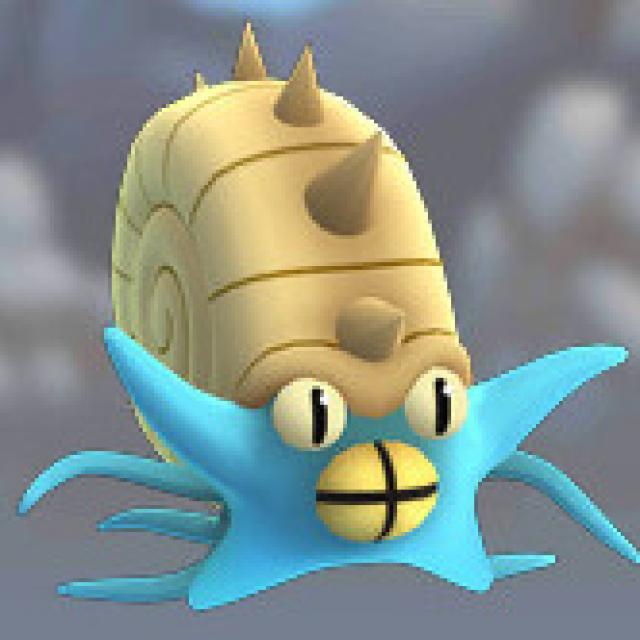Omastar: (97, 33, 504, 611)
